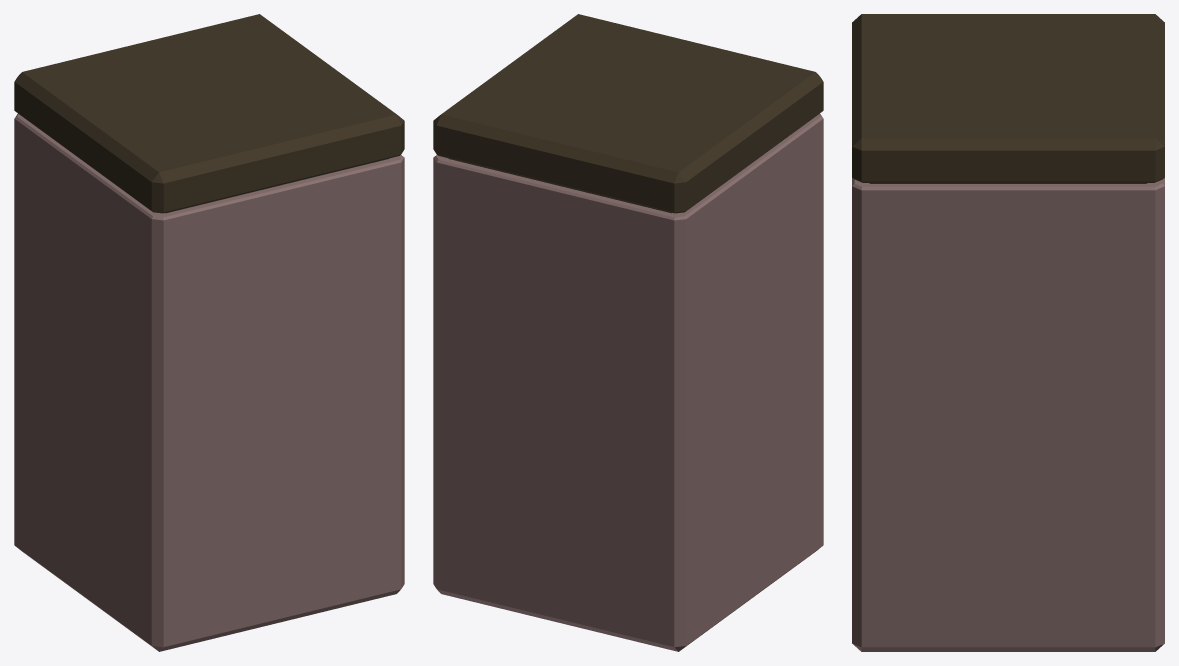
The model's file is B2-2_HighCube.fbx.
3 views of the same model, side by side, from view 1: azimuth 30°, elevation 25°; view 2: azimuth 150°, elevation 25°; view 3: azimuth 270°, elevation 25° (orthographic). The views are drawn at different scales.
Parts seen in each view (by area): view 1: HighCube; view 2: HighCube; view 3: HighCube.
Boxes of the visible parts, box(x1,y1,x2,y2) form: HighCube: box(14, 14, 404, 651); HighCube: box(433, 14, 823, 651); HighCube: box(852, 14, 1164, 651).
Bounding box in the file's own units: 1 × 1.81 × 1.
